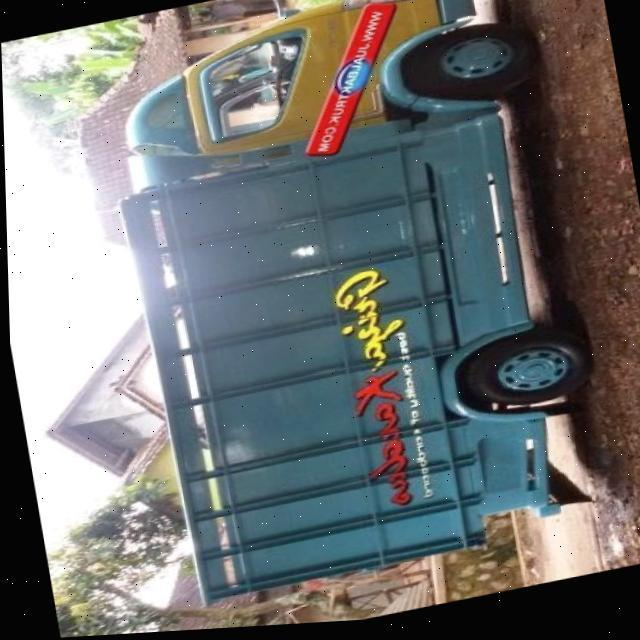truck: (85, 0, 624, 616)
